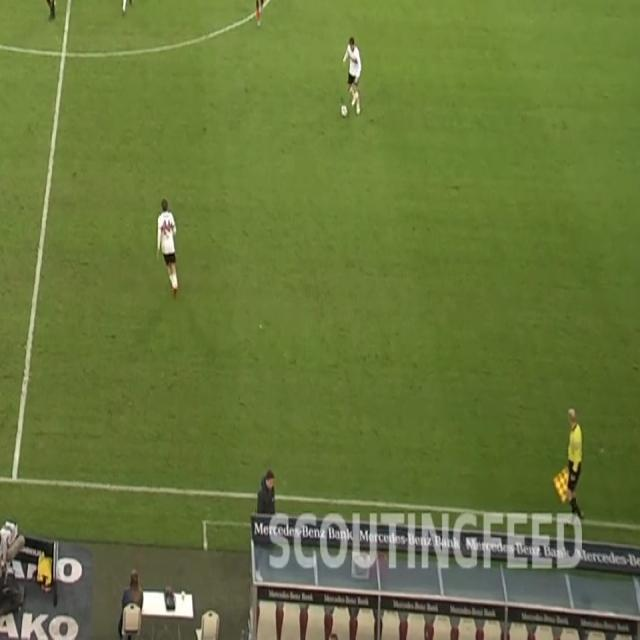ball: (339, 102, 350, 120)
